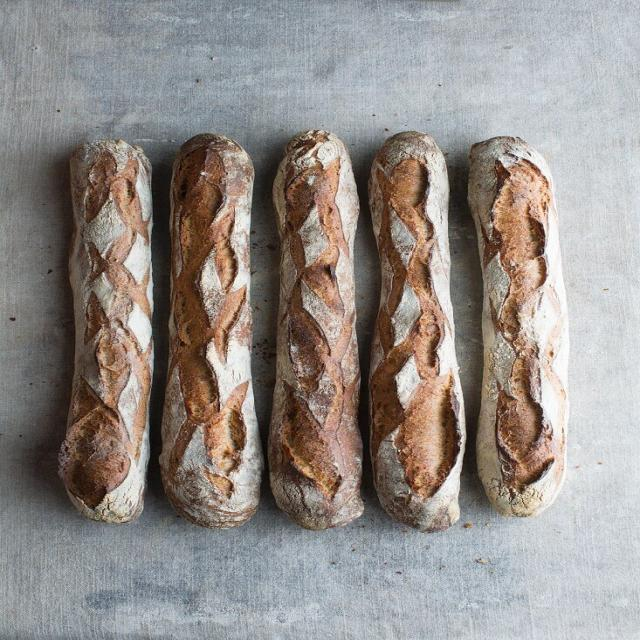Baguette: (159, 134, 261, 528), (369, 131, 465, 531), (468, 137, 568, 516), (268, 130, 362, 529), (58, 140, 153, 522)
